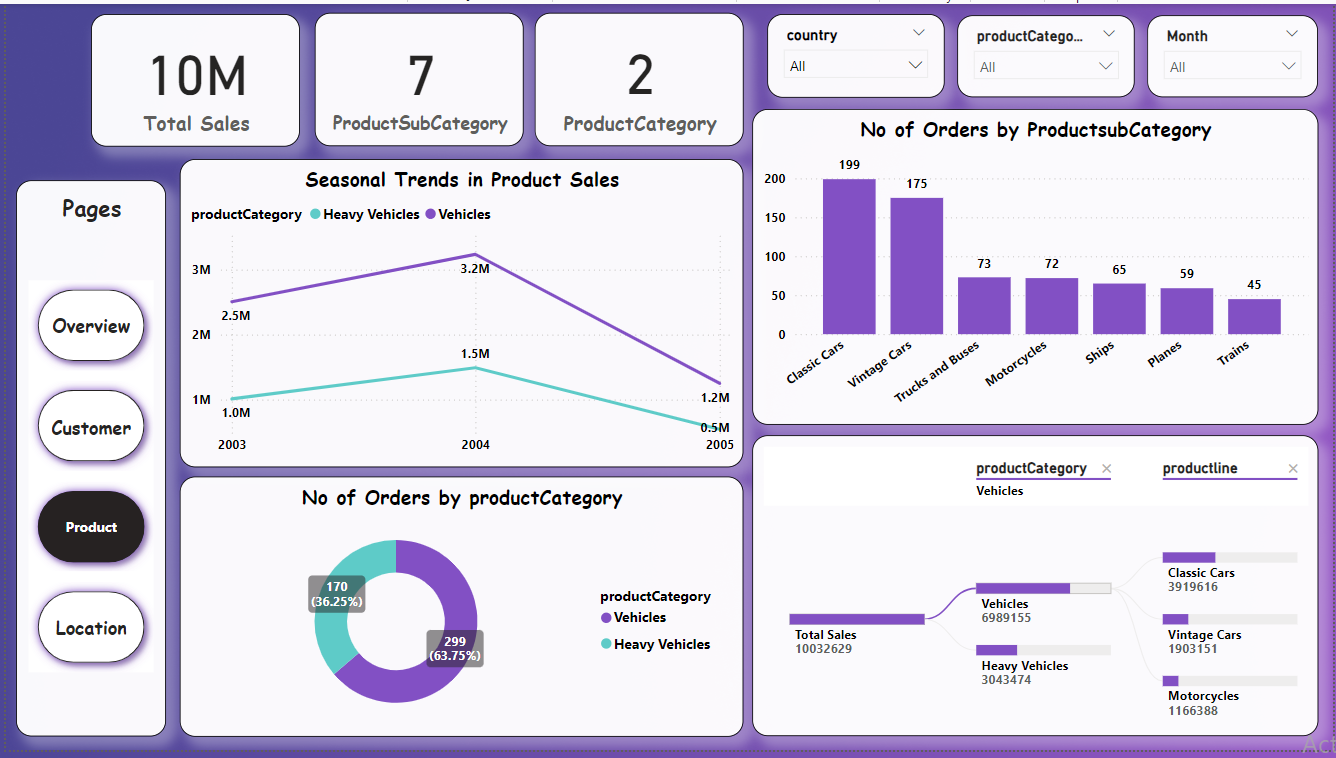

Layout of this report page (visuals, bound fields, positions):
{"tool":"powerbi","page":{"name":"Product","canvas":[1280,720],"ordinal":2},"visuals":[{"type":"card","fields":{"Values":["My Measures.No of ProductCategory"]},"box":[510.2,8.4,201.4,129],"z":0},{"type":"card","fields":{"Values":["My Measures.ProductSubcategory"]},"box":[297.9,8.4,201.4,129],"z":1000},{"type":"card","fields":{"Values":["My Measures.Total Sales"]},"box":[82,9.6,201.4,127.8],"z":2000},{"type":"lineChart","title":"Seasonal Trends in Product Sales","fields":{"Category":["sales_data_sample(prepared).orderdate.Variation.Date Hierarchy.Year","sales_data_sample(prepared).orderdate.Variation.Date Hierarchy.Quarter","sales_data_sample(prepared).orderdate.Variation.Date Hierarchy.Month","sales_data_sample(prepared).orderdate.Variation.Date Hierarchy.Day"],"Y":["My Measures.Total Sales"],"Series":["sales_data_sample(prepared).productCategory"]},"box":[167.6,149.5,543.9,297.9],"z":3000},{"type":"clusteredColumnChart","title":"No of Orders by ProductsubCategory","fields":{"Y":["My Measures.No of Orders"],"Category":["sales_data_sample(prepared).productline"]},"box":[720,101.3,546.3,305.1],"z":4000},{"type":"donutChart","fields":{"Y":["My Measures.No of Orders"],"Category":["sales_data_sample(prepared).productCategory"]},"box":[167.6,455.9,543.9,250.9],"z":5000},{"type":"decompositionTreeVisual","fields":{"Analyze":["My Measures.Total Sales"],"ExplainBy":["sales_data_sample(prepared).productCategory","sales_data_sample(prepared).productline"]},"box":[720,416.1,546.3,290.7],"z":6000},{"type":"textbox","box":[10,170,145,537],"z":7000},{"type":"slicer","fields":{"Values":["sales_data_sample(prepared).country"]},"box":[734.5,9.6,171.3,80.8],"z":8000},{"type":"slicer","fields":{"Values":["sales_data_sample(prepared).month_id"]},"box":[1101.9,11,164.7,79.6],"z":9000},{"type":"slicer","fields":{"Values":["sales_data_sample(prepared).productCategory"]},"box":[918,11,171.5,79.6],"z":10000},{"type":"pageNavigator","box":[22,267,121,378],"z":11000}]}

Visuals, with their boxes in screenshot pixels (x1, y1, x2, y2), scaled from the page's 1280x720 canvas onto the 1336x758 screenshot:
card - My Measures.No of ProductCategory: (x1=533, y1=9, x2=743, y2=145)
card - My Measures.ProductSubcategory: (x1=311, y1=9, x2=521, y2=145)
card - My Measures.Total Sales: (x1=86, y1=10, x2=296, y2=145)
"Seasonal Trends in Product Sales" lineChart: (x1=175, y1=157, x2=743, y2=471)
"No of Orders by ProductsubCategory" clusteredColumnChart: (x1=752, y1=107, x2=1322, y2=428)
donutChart - My Measures.No of Orders x sales_data_sample(prepared).productCategory: (x1=175, y1=480, x2=743, y2=744)
decompositionTreeVisual - My Measures.Total Sales x sales_data_sample(prepared).productCategory: (x1=752, y1=438, x2=1322, y2=744)
textbox: (x1=10, y1=179, x2=162, y2=744)
slicer - sales_data_sample(prepared).country: (x1=767, y1=10, x2=945, y2=95)
slicer - sales_data_sample(prepared).month_id: (x1=1150, y1=12, x2=1322, y2=95)
slicer - sales_data_sample(prepared).productCategory: (x1=958, y1=12, x2=1137, y2=95)
pageNavigator: (x1=23, y1=281, x2=149, y2=679)
